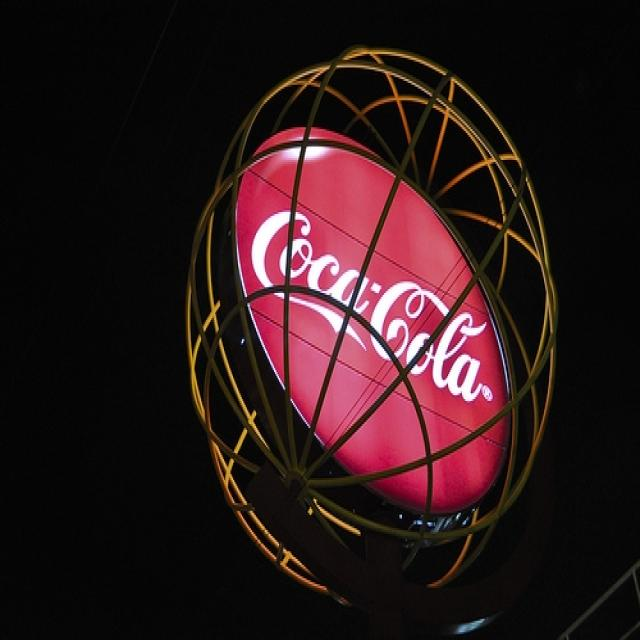cocacola: (247, 202, 494, 414)
